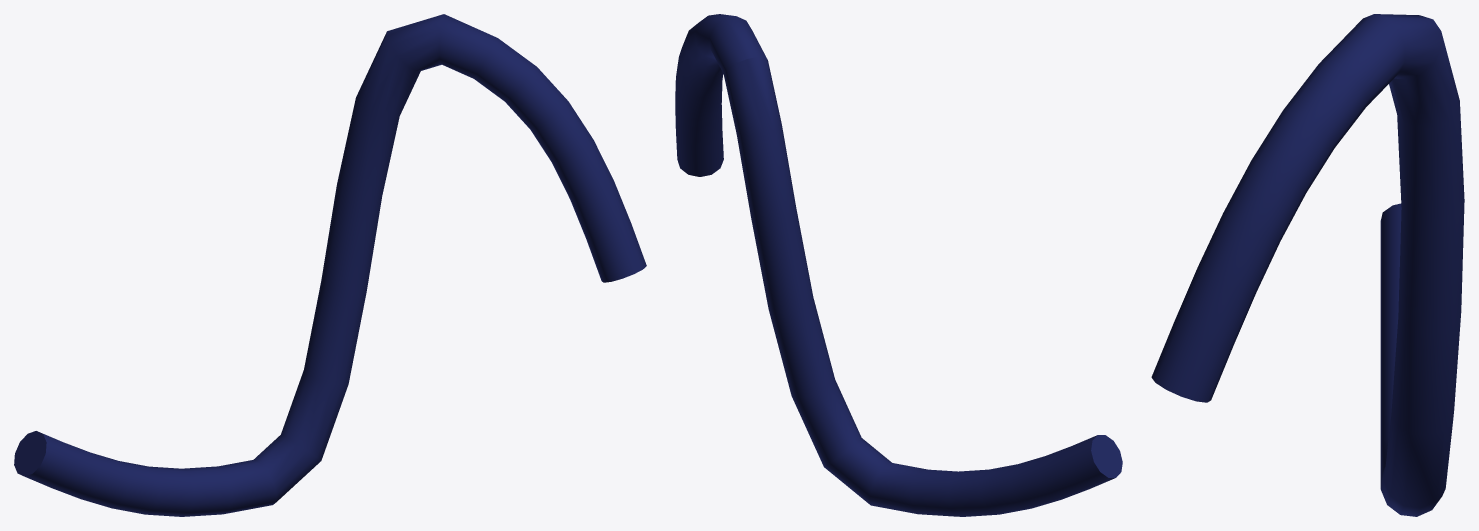
The model's file is stage8 pesticide hose.fbx.
3 views of the same model, side by side, from view 1: azimuth 30°, elevation 25°; view 2: azimuth 150°, elevation 25°; view 3: azimuth 270°, elevation 25° (orthographic). The views are drawn at different scales.
Parts seen in each view (by area): view 1: Line001; view 2: Line001; view 3: Line001.
Boxes of the visible parts, x1,y1,x2,y2 form: Line001: (14,14,646,516); Line001: (675,14,1122,516); Line001: (1151,14,1464,516).
Bounding box in the file's own units: 40 × 15.12 × 32.32.
